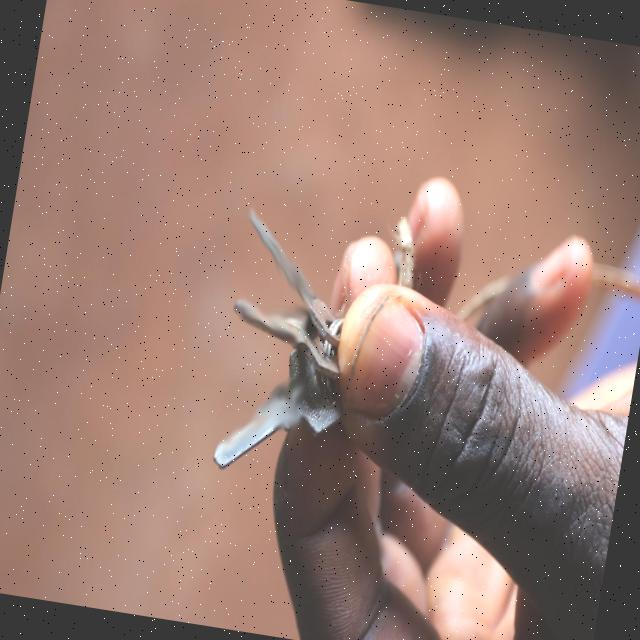Frontdoor keys: (202, 356, 338, 488), (224, 208, 358, 332), (212, 304, 338, 358)
